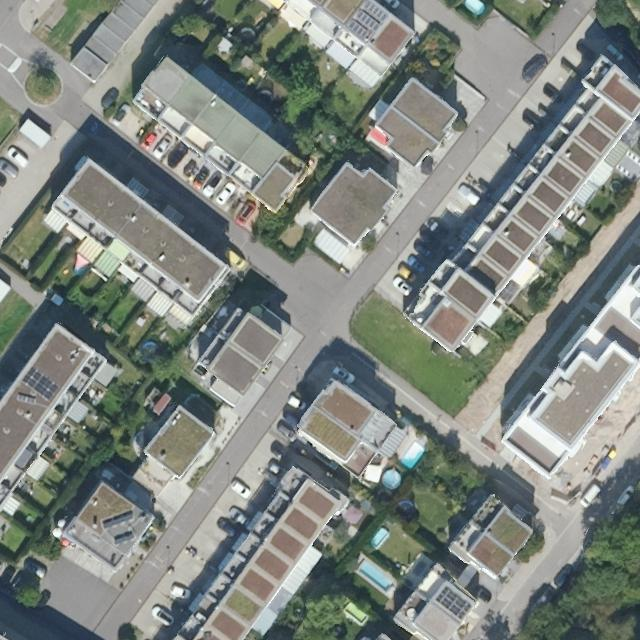PV: (21, 365, 62, 402)
